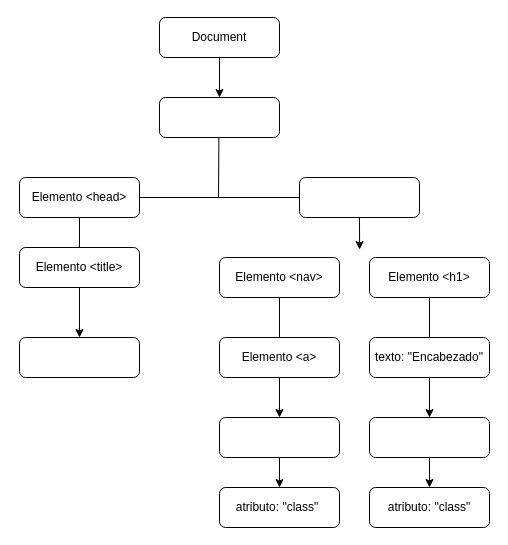
Image size: 508x545. Some labels were removed from this diagram. Each missing label, with the centre of its shape:
atributo: "id": [429,437]
Elemento <body>: [359,197]
Root (HTML): [219,117]
texto: "Mi Página Web": [79,357]
texto: "Nosostros": [279,437]
